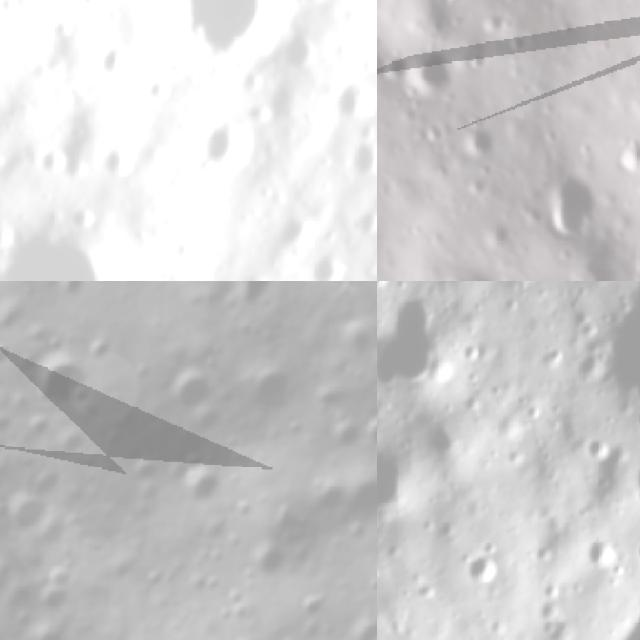crater: (0, 171, 172, 281), (154, 0, 320, 93), (377, 307, 460, 403), (591, 281, 640, 435), (22, 345, 103, 426), (187, 116, 263, 196), (536, 164, 602, 246), (402, 38, 466, 111), (81, 23, 146, 92), (240, 358, 304, 423), (161, 361, 226, 424), (377, 438, 418, 526), (0, 485, 58, 547), (320, 70, 377, 133), (212, 281, 300, 320), (29, 503, 86, 561), (243, 530, 299, 588), (271, 29, 327, 86), (570, 237, 640, 281), (94, 134, 148, 191), (263, 205, 317, 260), (180, 462, 228, 520), (321, 410, 369, 463), (460, 116, 510, 160), (304, 376, 349, 423), (35, 577, 81, 622), (24, 460, 69, 506), (456, 547, 498, 595), (296, 582, 337, 628), (338, 316, 377, 364), (578, 530, 614, 581), (298, 252, 358, 281), (0, 291, 35, 339), (24, 611, 79, 640), (38, 558, 79, 596), (336, 607, 377, 640), (47, 281, 98, 306), (68, 376, 102, 412), (0, 334, 18, 375), (623, 135, 640, 178), (362, 411, 377, 454)
